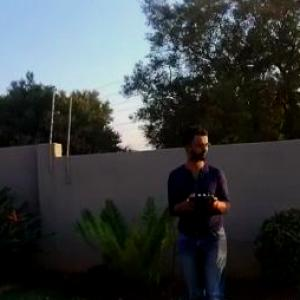follow: (163, 117, 240, 299)
